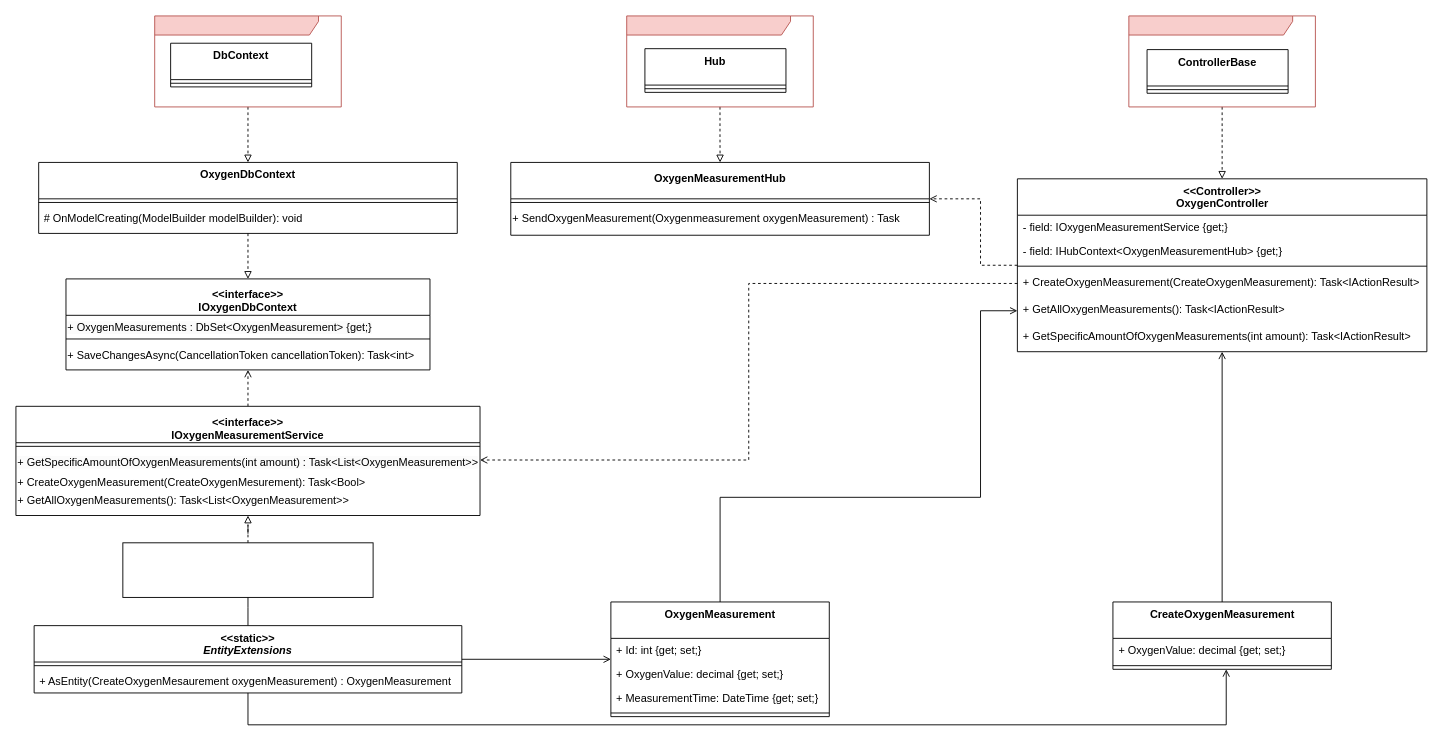
This 1443x748 diagram has some shape labels left out. The shapes that lost their labels are listed below. From the top down, each one's centre as x and y in pixels, then its label:
the point at 247,61: Microsoft.EntityframeworkCore
the point at 719,61: Microsoft.AspNetCore.SignalR
the point at 1221,61: Microsoft.AspNetCore.Mvc
the point at 247,569: OxygenMeasurementService - OxygenDbContext: IOxygenDbContext {get;}
